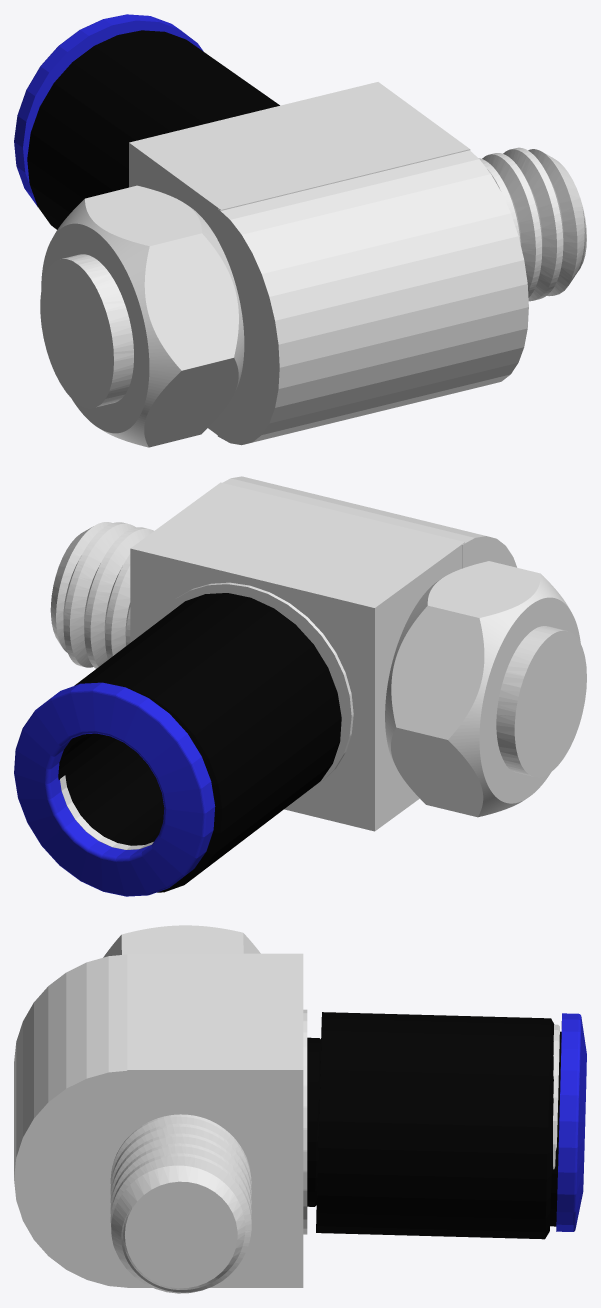
The model's file is onewayvalve.fbx.
3 views of the same model, one above another, from view 1: azimuth 30°, elevation 25°; view 2: azimuth 150°, elevation 25°; view 3: azimuth 270°, elevation 25° (orthographic). The views are drawn at different scales.
Parts seen in each view (by area): view 1: One-way flow control valve.003, One-way flow control valve.002, One-way flow control valve; view 2: One-way flow control valve.003, One-way flow control valve.002, One-way flow control valve, One-way flow control valve.001; view 3: One-way flow control valve.003, One-way flow control valve.002, One-way flow control valve, One-way flow control valve.001.
Part boxes in pixels (x1,y1,x2,y2): One-way flow control valve.003: [40, 82, 586, 447]; One-way flow control valve.002: [27, 30, 279, 229]; One-way flow control valve: [14, 14, 203, 206]; One-way flow control valve.003: [50, 476, 586, 831]; One-way flow control valve.002: [58, 593, 341, 892]; One-way flow control valve: [14, 682, 215, 896]; One-way flow control valve.001: [60, 775, 153, 849]; One-way flow control valve.003: [14, 925, 307, 1293]; One-way flow control valve.002: [307, 1012, 561, 1239]; One-way flow control valve: [556, 1013, 586, 1231]; One-way flow control valve.001: [553, 1024, 559, 1169].
Bounding box in the file's own units: 43.75 × 19.87 × 47.26.
